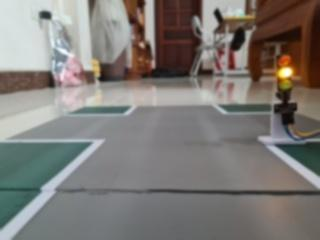yellow: (269, 48, 300, 105)
